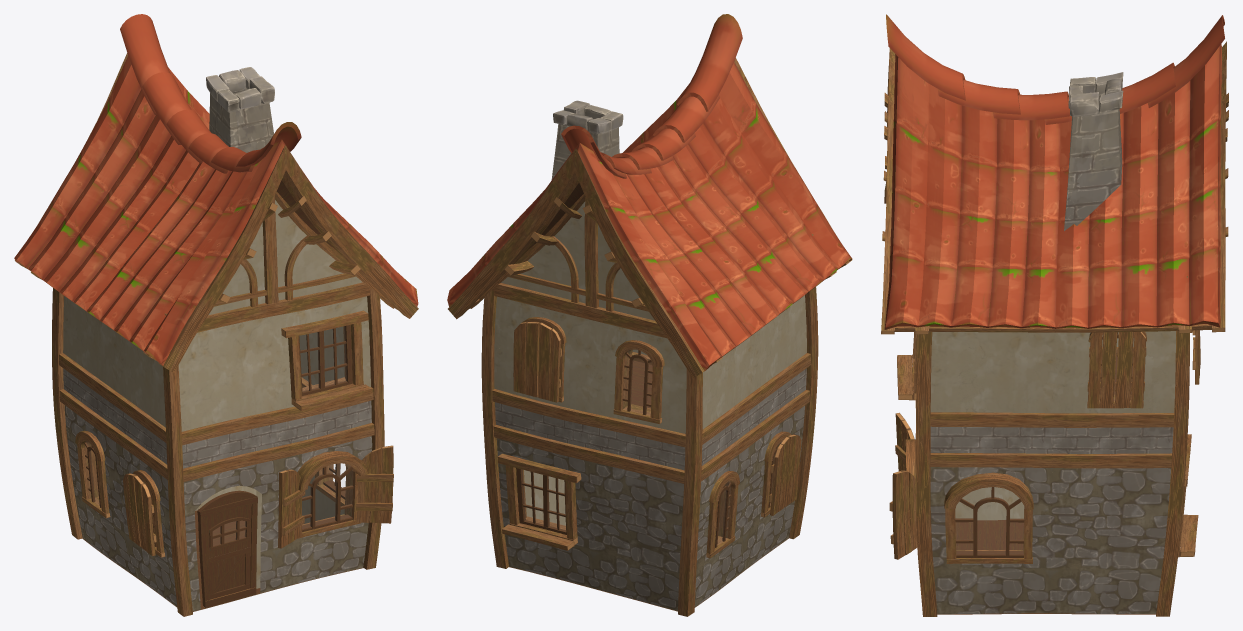
3 views of the same model, side by side, from view 1: azimuth 30°, elevation 25°; view 2: azimuth 150°, elevation 25°; view 3: azimuth 270°, elevation 25° (orthographic). The views are drawn at different scales.
Parts seen in each view (by area): view 1: H01; view 2: H01; view 3: H01.
Part boxes in pixels (<box>): H01: <box>14,14,418,616</box>; H01: <box>447,14,852,616</box>; H01: <box>881,14,1228,616</box>.
Bounding box in the file's own units: 5.94 × 10.27 × 5.93.
42 materials, 38 textured.
